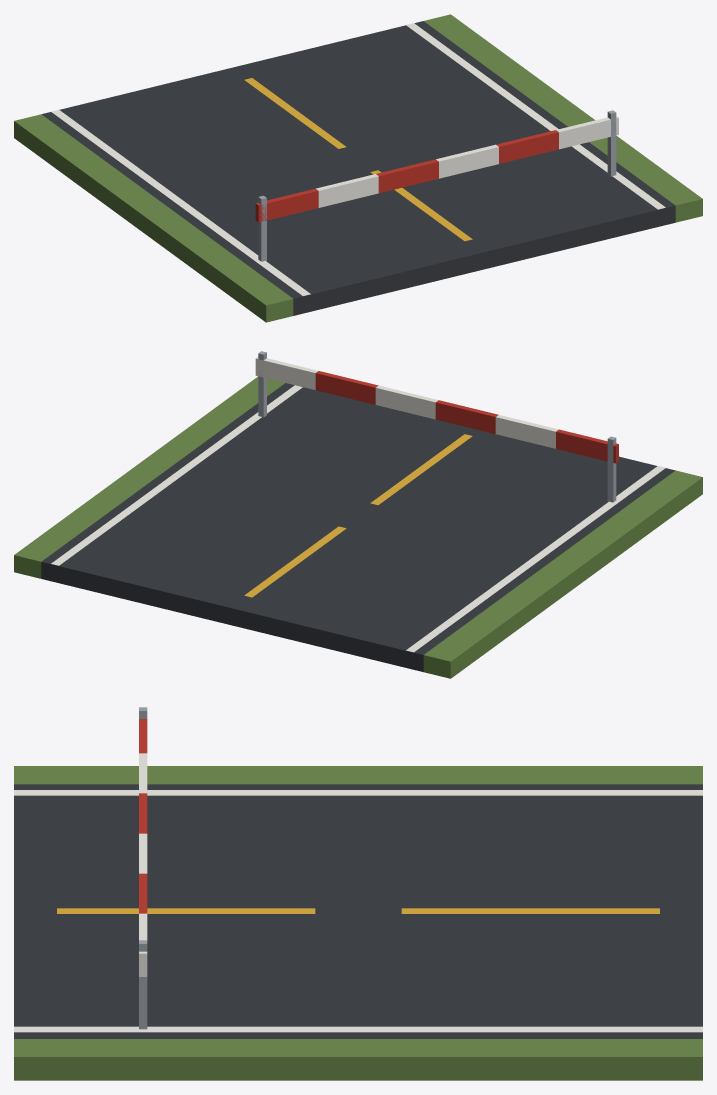
File: Road_2Lane_NoSidewalk_EndCap_Barrier.glb
3 renders of one model, top to bottom at view 1: azimuth 30°, elevation 25°; view 2: azimuth 150°, elevation 25°; view 3: azimuth 270°, elevation 25°, orthographic. The views are drawn at different scales.
Visible parts, largest first — view 1: Road_2Lane_NoSidewalk_EndCap_Barrier_Asphalt, Road_2Lane_NoSidewalk_EndCap_Barrier_Grass-edge, Road_2Lane_NoSidewalk_EndCap_Barrier_PaintWhite, Road_2Lane_NoSidewalk_EndCap_Barrier_SignRed, Road_2Lane_NoSidewalk_EndCap_Barrier_PaintYellow, Road_2Lane_NoSidewalk_EndCap_Barrier_Metal; view 2: Road_2Lane_NoSidewalk_EndCap_Barrier_Asphalt, Road_2Lane_NoSidewalk_EndCap_Barrier_Grass-edge, Road_2Lane_NoSidewalk_EndCap_Barrier_PaintWhite, Road_2Lane_NoSidewalk_EndCap_Barrier_SignRed, Road_2Lane_NoSidewalk_EndCap_Barrier_PaintYellow, Road_2Lane_NoSidewalk_EndCap_Barrier_Metal; view 3: Road_2Lane_NoSidewalk_EndCap_Barrier_Asphalt, Road_2Lane_NoSidewalk_EndCap_Barrier_Grass-edge, Road_2Lane_NoSidewalk_EndCap_Barrier_PaintWhite, Road_2Lane_NoSidewalk_EndCap_Barrier_PaintYellow, Road_2Lane_NoSidewalk_EndCap_Barrier_SignRed, Road_2Lane_NoSidewalk_EndCap_Barrier_Metal.
Part boxes in pixels (left/top/right/bottom): Road_2Lane_NoSidewalk_EndCap_Barrier_Asphalt: left=41, top=21, right=675, bottom=315; Road_2Lane_NoSidewalk_EndCap_Barrier_Grass-edge: left=14, top=14, right=702, bottom=322; Road_2Lane_NoSidewalk_EndCap_Barrier_PaintWhite: left=51, top=23, right=665, bottom=295; Road_2Lane_NoSidewalk_EndCap_Barrier_SignRed: left=255, top=130, right=558, bottom=222; Road_2Lane_NoSidewalk_EndCap_Barrier_PaintYellow: left=244, top=78, right=472, bottom=241; Road_2Lane_NoSidewalk_EndCap_Barrier_Metal: left=258, top=110, right=616, bottom=261; Road_2Lane_NoSidewalk_EndCap_Barrier_Asphalt: left=41, top=383, right=675, bottom=671; Road_2Lane_NoSidewalk_EndCap_Barrier_Grass-edge: left=14, top=376, right=702, bottom=678; Road_2Lane_NoSidewalk_EndCap_Barrier_PaintWhite: left=51, top=357, right=665, bottom=652; Road_2Lane_NoSidewalk_EndCap_Barrier_SignRed: left=315, top=371, right=618, bottom=463; Road_2Lane_NoSidewalk_EndCap_Barrier_PaintYellow: left=244, top=434, right=472, bottom=597; Road_2Lane_NoSidewalk_EndCap_Barrier_Metal: left=258, top=351, right=616, bottom=502; Road_2Lane_NoSidewalk_EndCap_Barrier_Asphalt: left=14, top=784, right=702, bottom=1038; Road_2Lane_NoSidewalk_EndCap_Barrier_Grass-edge: left=14, top=766, right=702, bottom=1080; Road_2Lane_NoSidewalk_EndCap_Barrier_PaintWhite: left=14, top=753, right=702, bottom=1032; Road_2Lane_NoSidewalk_EndCap_Barrier_PaintYellow: left=57, top=908, right=659, bottom=913; Road_2Lane_NoSidewalk_EndCap_Barrier_SignRed: left=139, top=719, right=147, bottom=913; Road_2Lane_NoSidewalk_EndCap_Barrier_Metal: left=139, top=707, right=147, bottom=1029.
Size of the model in its own units: 8 by 1.4 by 8.
